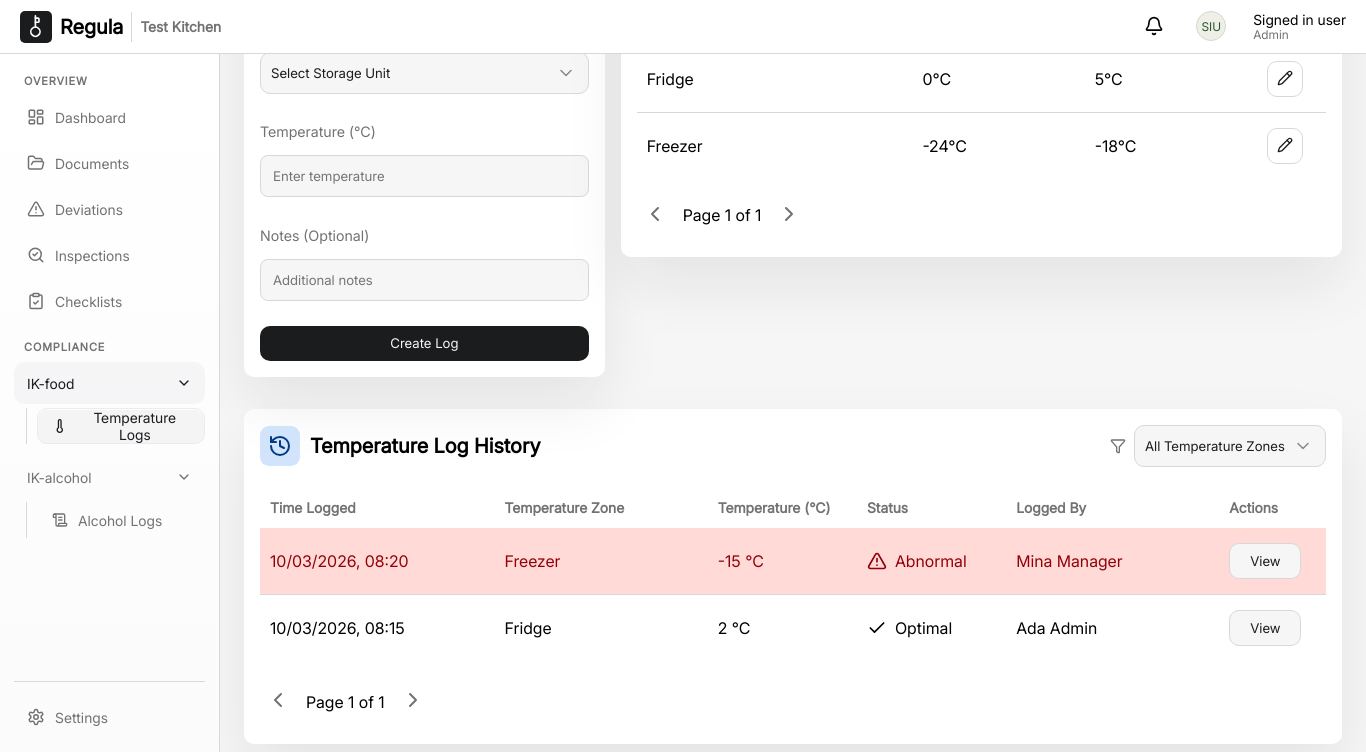
Scenario: TemperatureLogView › opens the details dialog for a temperature log
The image size is (1366, 752).
(page scrolled)
Step 1. Click the button "View" in the row of "10/03/2026, 08:15" → click(1265, 628), box [1229, 610, 1301, 646]
(page scrolled)
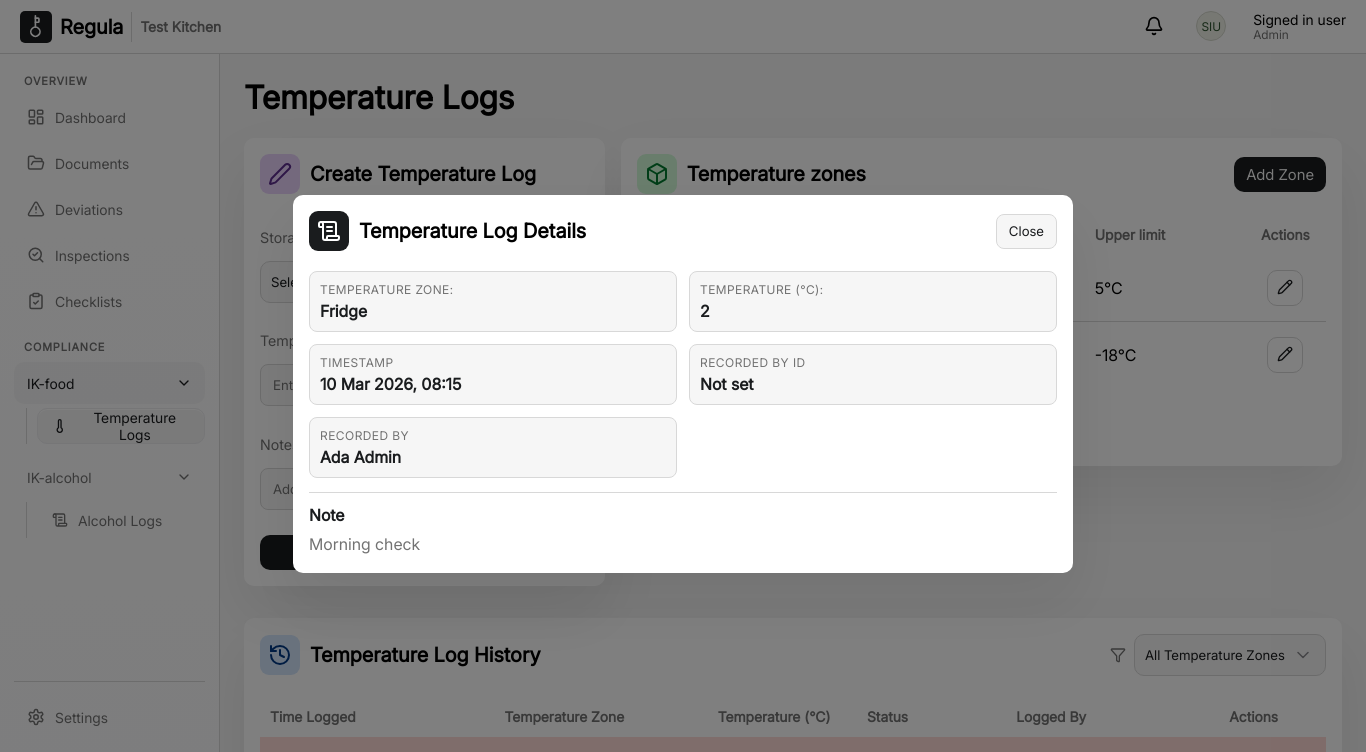
Now the text "Temperature Log Details" is shown, box [359, 219, 586, 243]
Now the text "Temperature Zone:" reads "Fridge", box [320, 301, 367, 321]
Now the text "Temperature (°C):" reads "2", box [700, 301, 710, 321]
Step 2. Click the button "Close" → click(1027, 232), box [996, 214, 1057, 249]
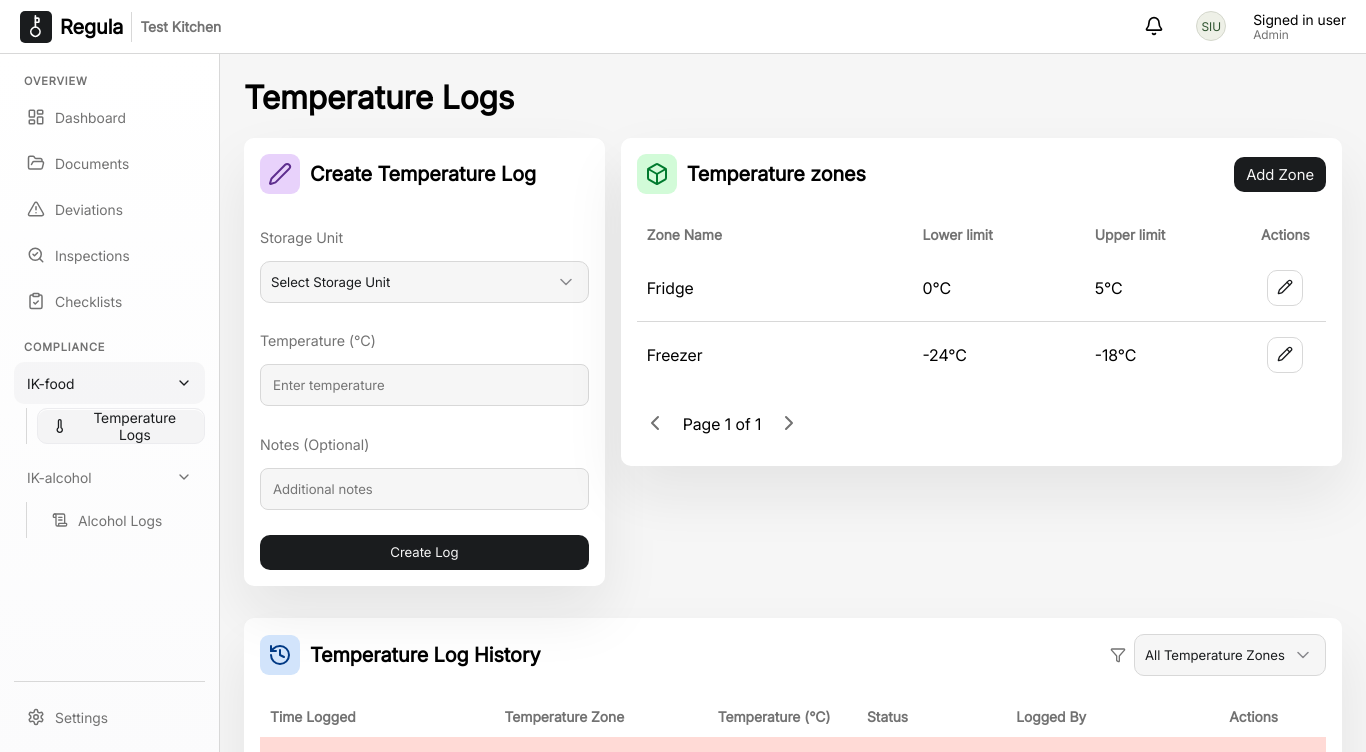
Now the text "Temperature Log Details" is gone
